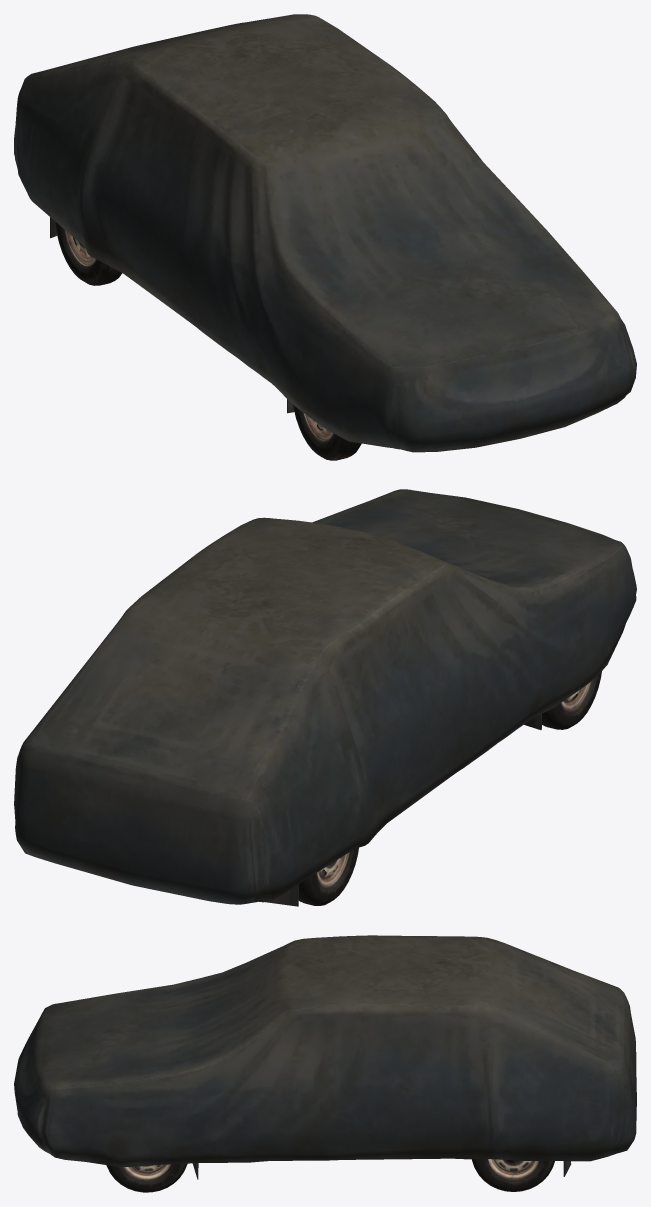
File: covered_car.glb
3 renders of one model, top to bottom at view 1: azimuth 30°, elevation 25°; view 2: azimuth 150°, elevation 25°; view 3: azimuth 270°, elevation 25°, orthographic. The views are drawn at different scales.
Visible parts, largest first — view 1: covered_car_wheel_01; view 2: covered_car_wheel_01; view 3: covered_car_wheel_01.
Part boxes in pixels (<box>): covered_car_wheel_01: <box>14,14,636,460</box>; covered_car_wheel_01: <box>14,489,636,906</box>; covered_car_wheel_01: <box>14,935,636,1192</box>.
Bounding box in the file's own units: 1.79 × 1.41 × 4.38.
1 material, 1 textured.
